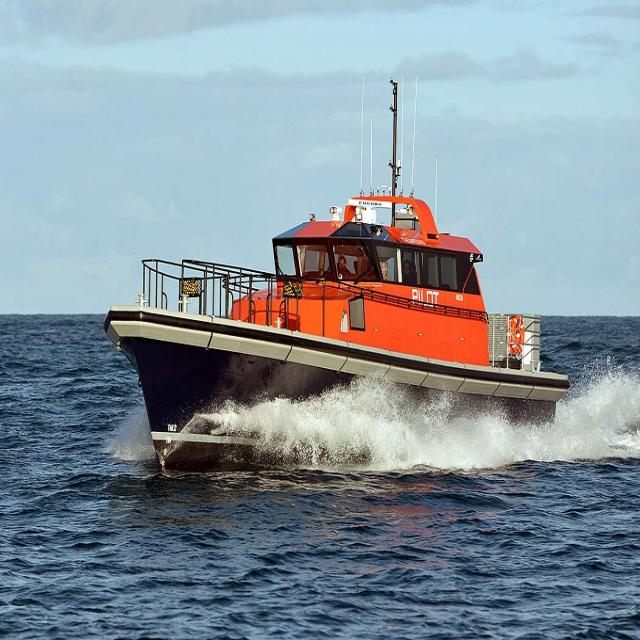houseboat: (99, 176, 556, 471)
